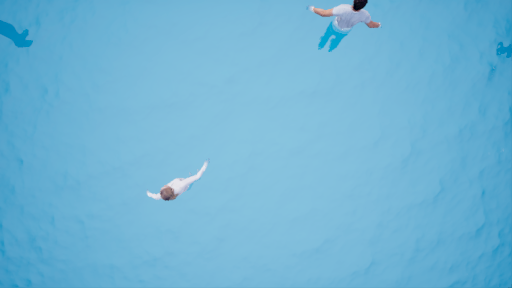person: (303, 1, 388, 56), (146, 156, 209, 203)
